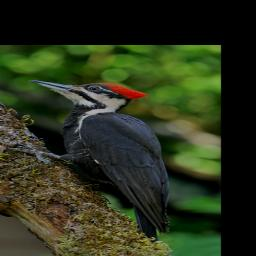Woodpecker: (9, 78, 185, 244)
